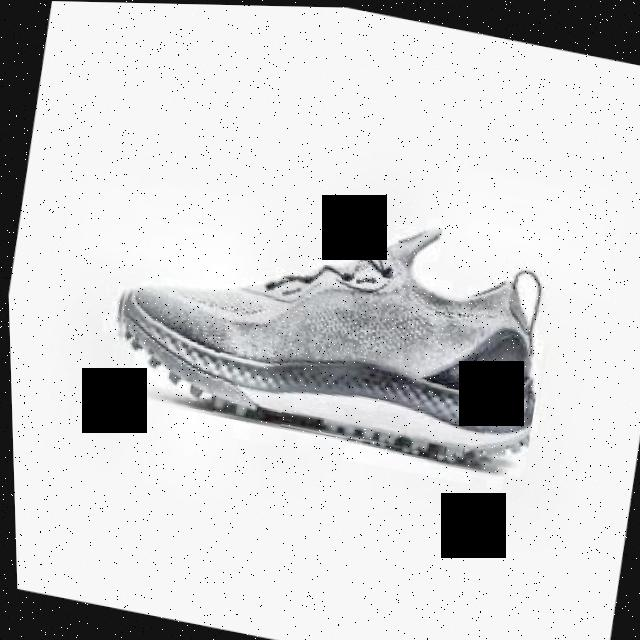shoe: (96, 167, 560, 475)
